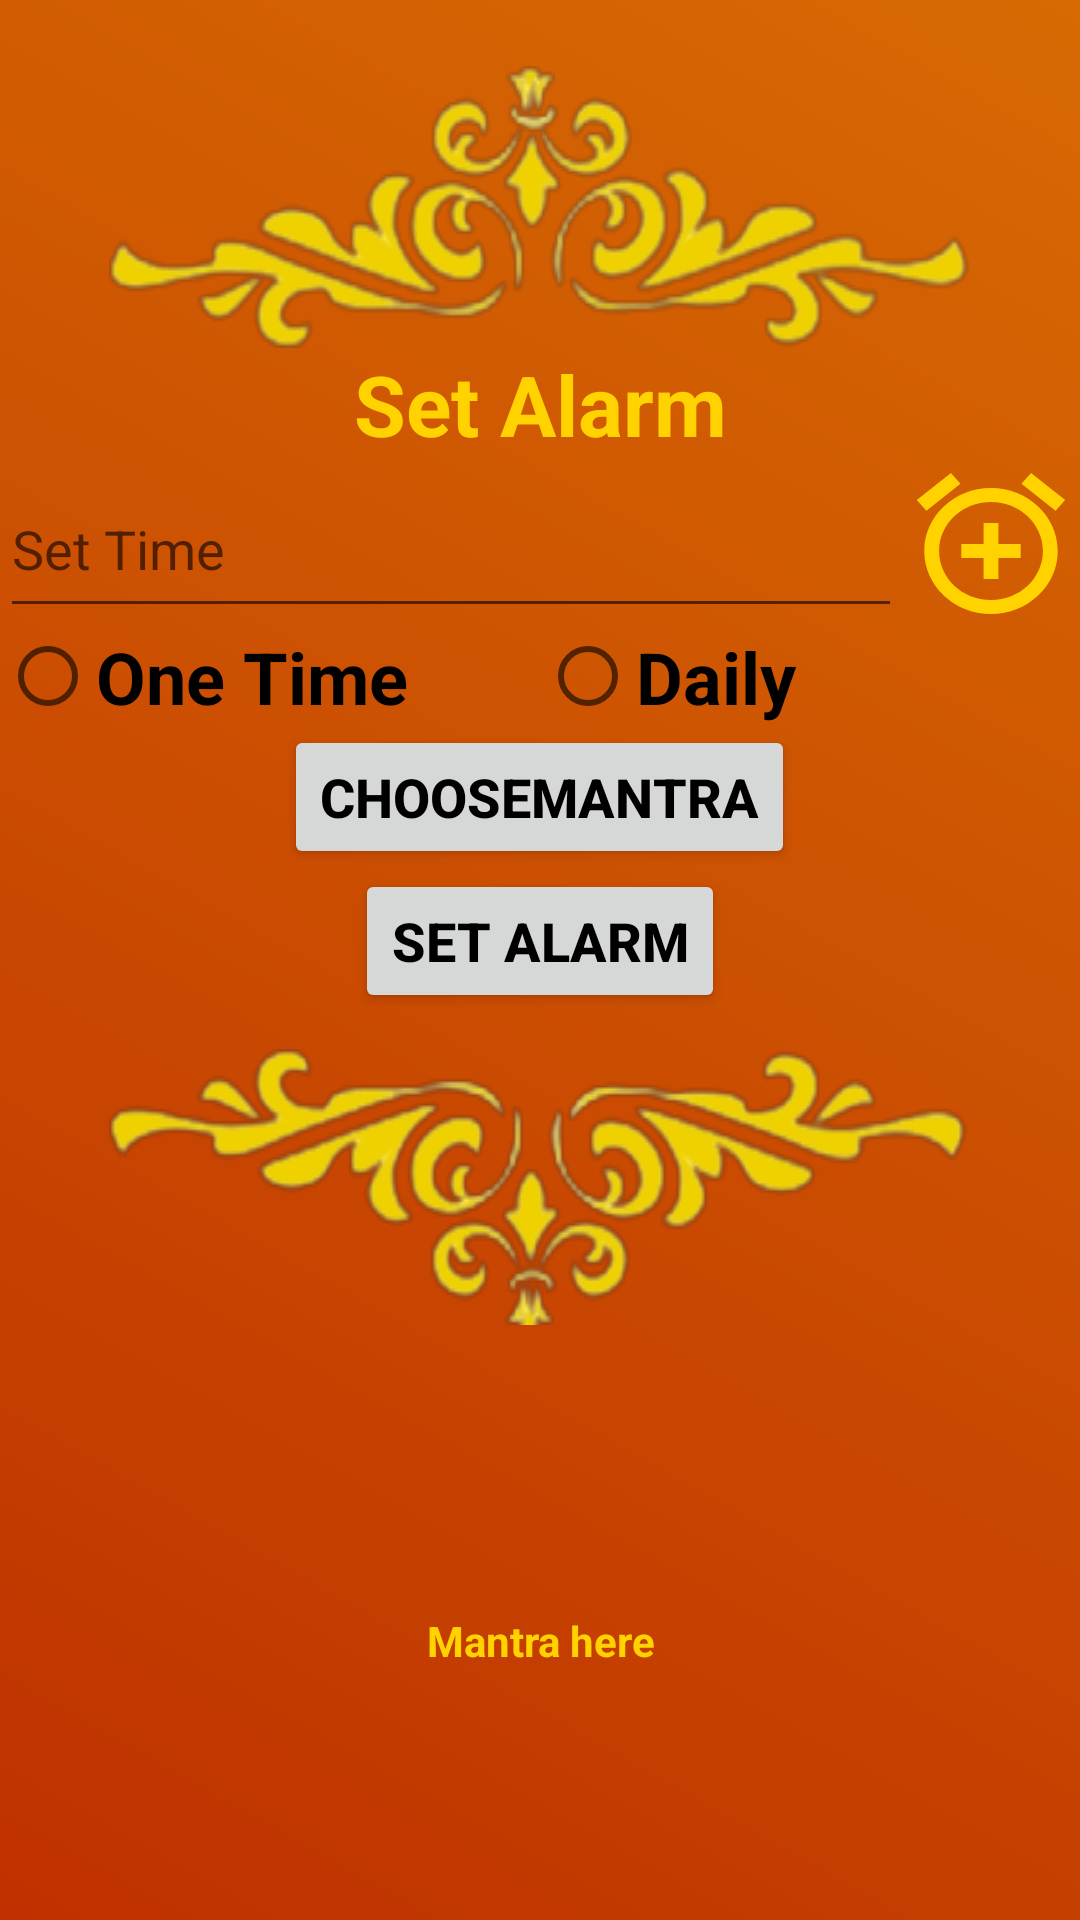

Where icons sit on this 1080x1920 app screen, as bbox(x1, y1, x2, y2):
add alarm: bbox(917, 473, 1065, 614)
